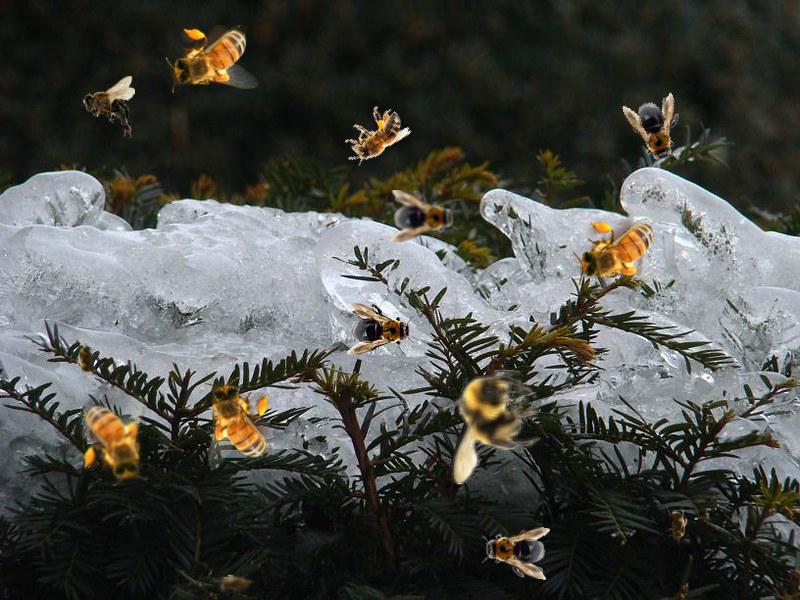Bee: (434, 370, 541, 485), (166, 25, 259, 93), (80, 393, 148, 486), (204, 377, 272, 470), (573, 218, 666, 286), (334, 98, 414, 177), (621, 90, 693, 172), (479, 524, 551, 580), (390, 190, 458, 242), (347, 303, 415, 355), (82, 76, 135, 138), (215, 574, 255, 596), (76, 339, 98, 379), (666, 506, 688, 546)
